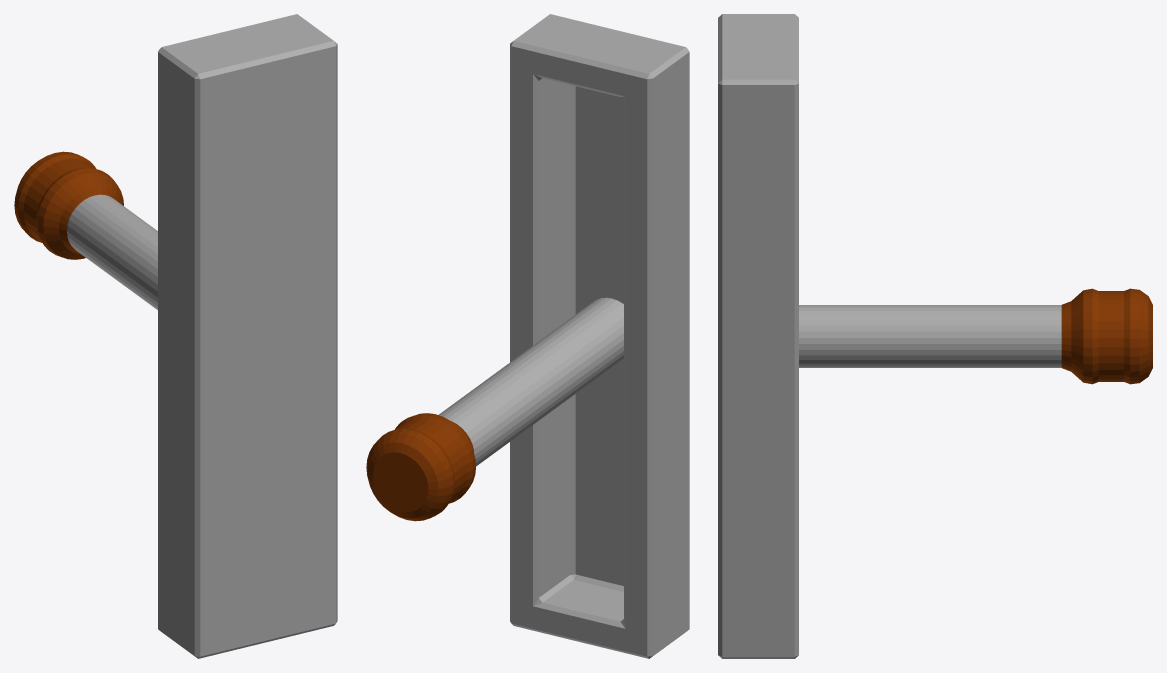
The model's file is crank.glb.
The picture shows the model from 3 angles, left to right: view 1: azimuth 30°, elevation 25°; view 2: azimuth 150°, elevation 25°; view 3: azimuth 270°, elevation 25°; orthographic projection.
Visible parts, largest first — view 1: crank; view 2: crank; view 3: crank.
Part boxes in pixels (box(x1,y1,x2,y2)): crank: box(14, 14, 337, 658); crank: box(366, 14, 689, 658); crank: box(718, 14, 1152, 658).
Bounding box in the file's own units: 6.09 × 23.8 × 16.19.
